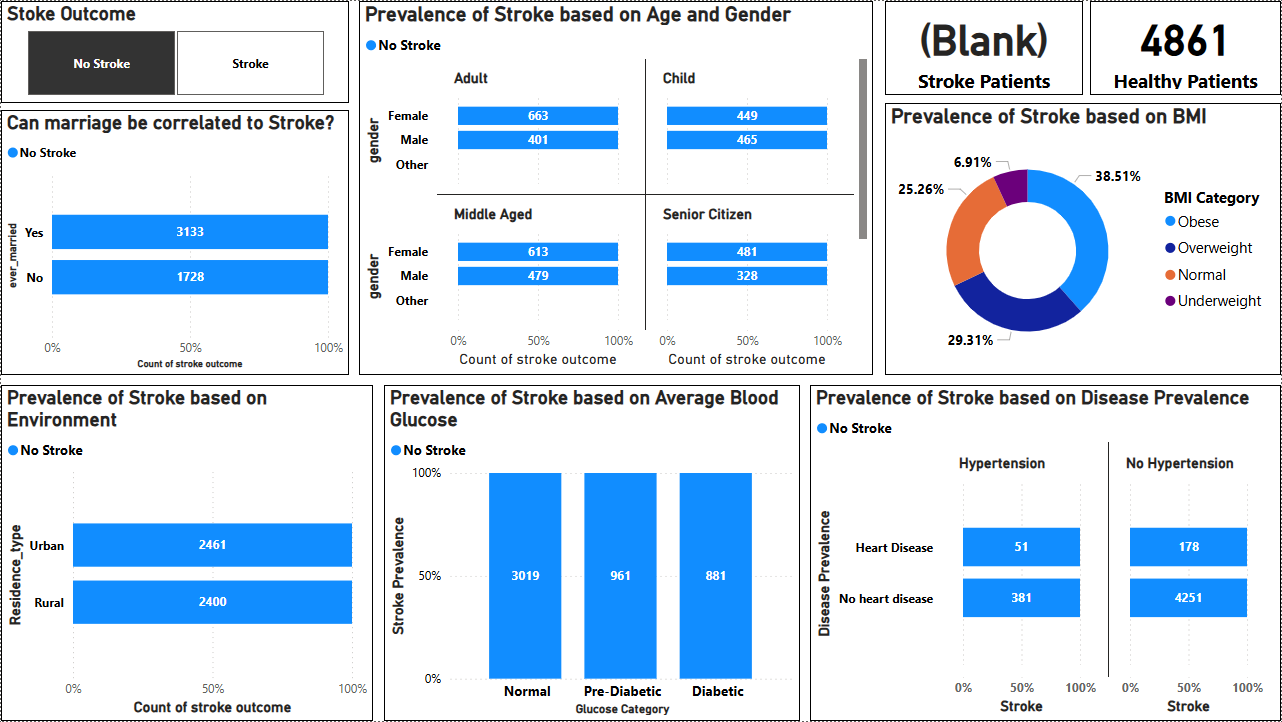

What the dashboard file says about the page in this screenshot:
{"tool":"powerbi","page":{"name":"Stroke Data","canvas":[1280,720],"ordinal":0},"visuals":[{"type":"hundredPercentStackedBarChart","title":"Prevalence of Stroke based on Age and Gender","fields":{"Category":["Stroke Data.gender"],"Y":["CountNonNull(Stroke Data.stroke outcome)"],"Rows":["Stroke Data.Age Group"],"Series":["Stroke Data.stroke outcome"]},"box":[358,0,514.5,373.9],"z":0},{"type":"hundredPercentStackedBarChart","title":"Prevalence of Stroke based on Disease Prevalence","fields":{"Y":["CountNonNull(Stroke Data.stroke outcome)"],"Series":["Stroke Data.stroke outcome"],"Category":["Stroke Data.Heart disease outcome"],"Rows":["Stroke Data.Hypertension outcome"]},"box":[809,384,471,336],"z":1000},{"type":"donutChart","title":"Prevalence of Stroke based on BMI","fields":{"Category":["Stroke Data.BMI Category"],"Y":["CountNonNull(Stroke Data.stroke outcome)"]},"box":[884,102,396,272],"z":2000},{"type":"hundredPercentStackedColumnChart","title":"Prevalence of Stroke based on Average Blood Glucose","fields":{"Y":["CountNonNull(Stroke Data.stroke outcome)"],"Series":["Stroke Data.stroke outcome"],"Category":["Stroke Data.Glucose Category"]},"box":[382.6,384.1,415.9,336.2],"z":3000},{"type":"hundredPercentStackedBarChart","title":"Prevalence of Stroke based on Environment","fields":{"Category":["Stroke Data.Residence_type"],"Y":["CountNonNull(Stroke Data.stroke outcome)"],"Series":["Stroke Data.stroke outcome"]},"box":[0,384.1,372.5,336.2],"z":4000},{"type":"slicer","title":"Stoke Outcome","fields":{"Values":["Stroke Data.stroke outcome"]},"box":[0,0,348,102],"z":5000},{"type":"hundredPercentStackedBarChart","title":"Can marriage be correlated to Stroke?","fields":{"Category":["Stroke Data.ever_married"],"Y":["CountNonNull(Stroke Data.stroke outcome)"],"Series":["Stroke Data.stroke outcome"]},"box":[0,109,348,265],"z":6000},{"type":"card","fields":{"Values":["CountNonNull(Stroke Data.stroke outcome)"]},"box":[884,0,198,94],"z":6001},{"type":"card","fields":{"Values":["CountNonNull(Stroke Data.stroke outcome)"]},"box":[1089,0,191,94],"z":6002}]}

Visuals, with their boxes in screenshot pixels (x1, y1, x2, y2), scaled from the page's 1280x720 canvas onto the 1282x722 screenshot:
"Prevalence of Stroke based on Age and Gender" hundredPercentStackedBarChart: bbox=[359, 0, 874, 375]
"Prevalence of Stroke based on Disease Prevalence" hundredPercentStackedBarChart: bbox=[810, 385, 1281, 721]
"Prevalence of Stroke based on BMI" donutChart: bbox=[885, 102, 1281, 375]
"Prevalence of Stroke based on Average Blood Glucose" hundredPercentStackedColumnChart: bbox=[383, 385, 800, 721]
"Prevalence of Stroke based on Environment" hundredPercentStackedBarChart: bbox=[0, 385, 373, 721]
"Stoke Outcome" slicer: bbox=[0, 0, 349, 102]
"Can marriage be correlated to Stroke?" hundredPercentStackedBarChart: bbox=[0, 109, 349, 375]
card - CountNonNull(Stroke Data.stroke outcome): bbox=[885, 0, 1084, 94]
card - CountNonNull(Stroke Data.stroke outcome): bbox=[1091, 0, 1281, 94]
